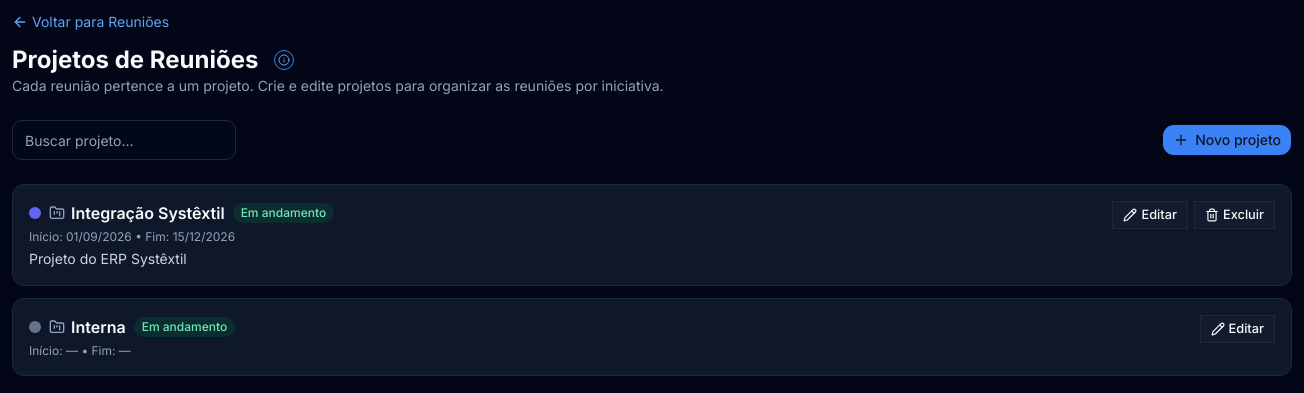
Test: ProjetosPage › filtra a lista pelo texto digitado
The width and height of the screenshot is (1304, 393).
expect the text "Integração Systêxtil" is shown: met, box [49,201,225,225]
Type "Interna" into the field labelled "Buscar projeto".
click(124, 140); type("Interna")  # box [12,120,236,160]
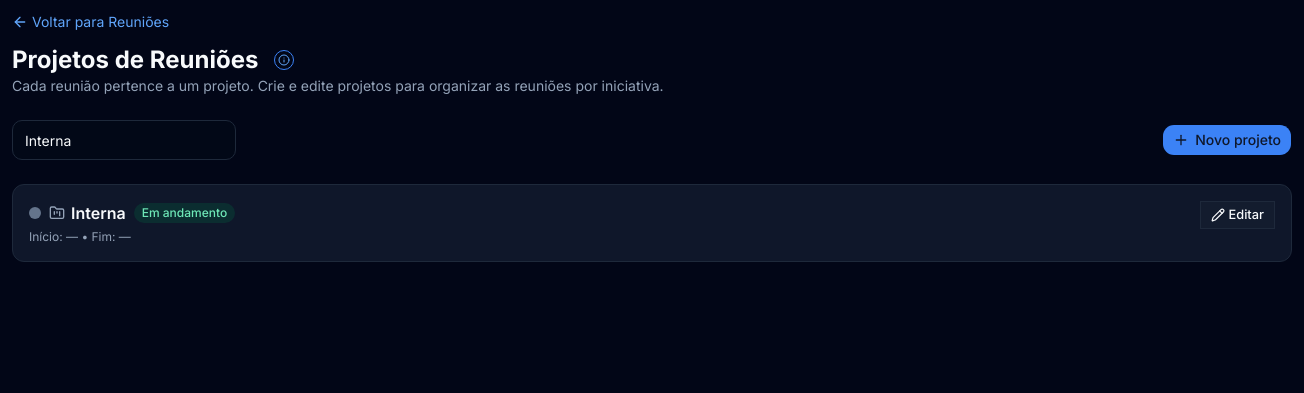
expect the text "Interna" is shown: met, box [49,201,126,225]
expect the text "Integração Systêxtil" is gone: met
